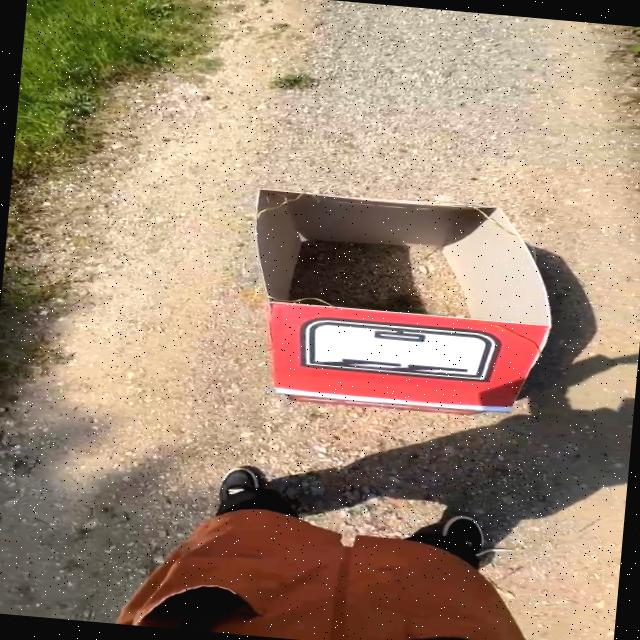red_car: (184, 140, 640, 486)
